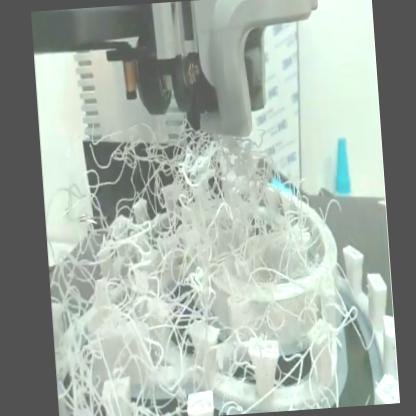fail: (42, 119, 352, 416)
